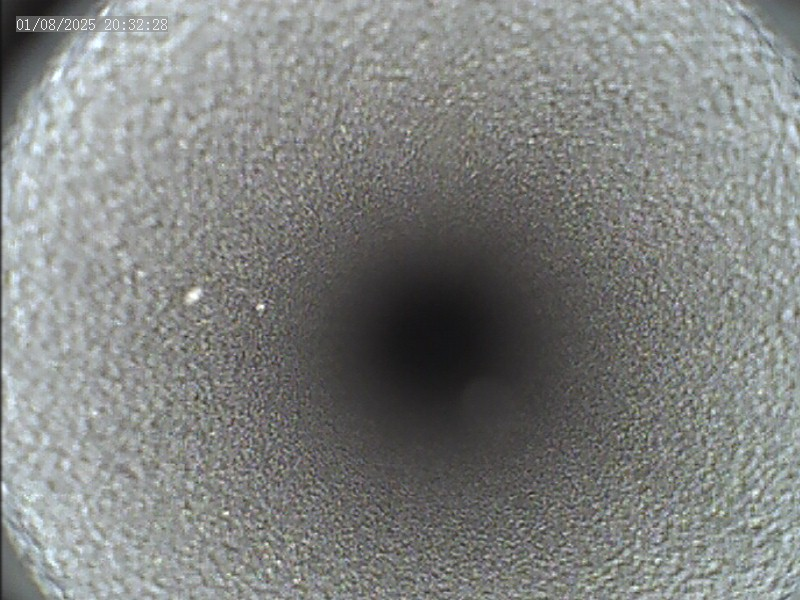defective_area: (182, 286, 266, 319)
